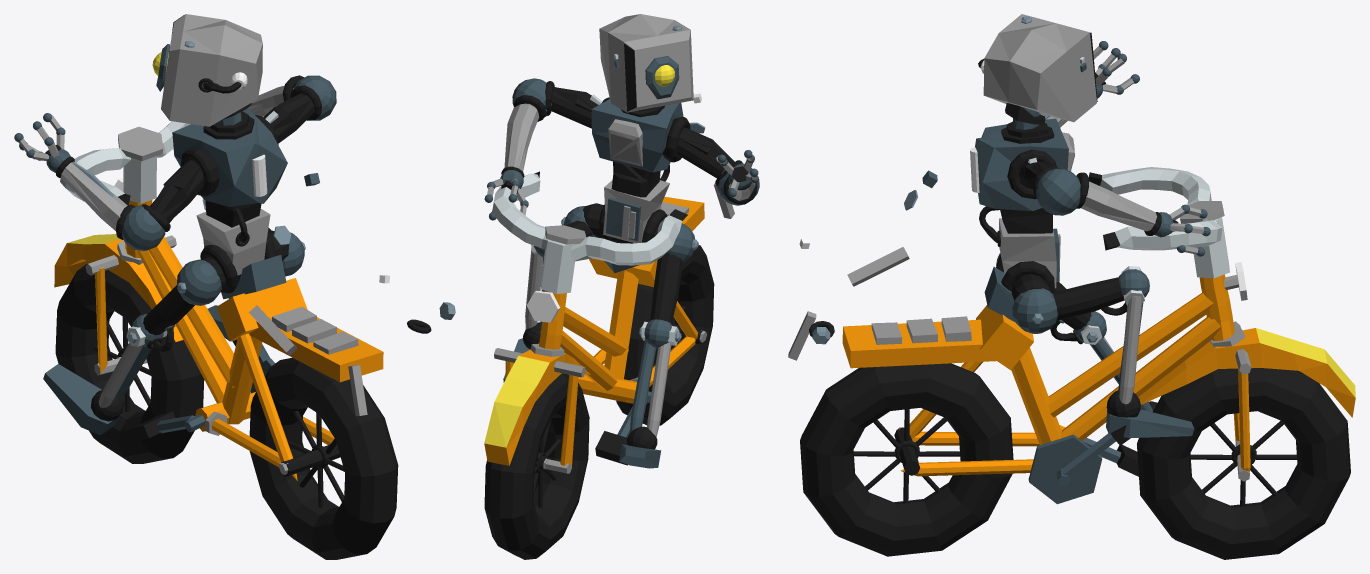
Rendered from bike.obj.
3 renders of one model, left to right at view 1: azimuth 30°, elevation 25°; view 2: azimuth 150°, elevation 25°; view 3: azimuth 270°, elevation 25°, orthographic. The views are drawn at different scales.
Parts seen in each view (by area): view 1: group762487646, group1901612701, group154473401; view 2: group762487646; view 3: group762487646, group1901612701.
Boxes of the visible parts, left/top/right/bottom form: group762487646: left=14, top=14, right=398, bottom=559; group1901612701: left=249, top=305, right=297, bottom=355; group154473401: left=348, top=365, right=367, bottom=415; group762487646: left=484, top=14, right=759, bottom=559; group762487646: left=800, top=14, right=1355, bottom=559; group1901612701: left=847, top=247, right=909, bottom=286.
Bounding box in the file's own units: 0.9358 × 1.54 × 1.52.
